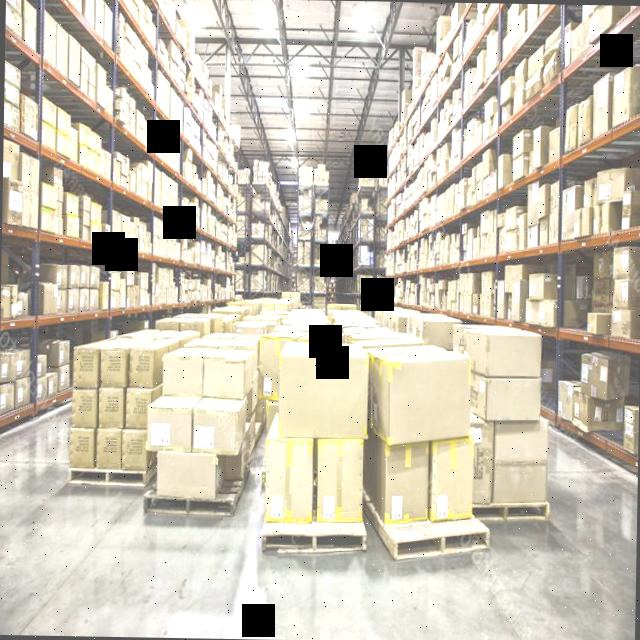box: (278, 356, 370, 440), (386, 354, 468, 444), (492, 421, 547, 506), (316, 442, 363, 525), (551, 380, 622, 433), (430, 441, 473, 519), (385, 444, 427, 520), (192, 399, 246, 452), (155, 456, 224, 495), (483, 331, 542, 375), (482, 378, 540, 422), (202, 350, 252, 396), (161, 349, 203, 395), (581, 358, 630, 396), (146, 410, 190, 449), (612, 66, 640, 123), (121, 431, 147, 473), (592, 72, 608, 137), (100, 348, 125, 389), (128, 348, 153, 386), (562, 184, 579, 239), (72, 349, 96, 387), (124, 390, 149, 425), (596, 171, 624, 201), (68, 432, 93, 465), (71, 391, 94, 426), (96, 430, 119, 465), (98, 390, 120, 426), (6, 183, 23, 224), (21, 159, 40, 193), (21, 100, 38, 136), (528, 273, 550, 300), (622, 408, 636, 449), (610, 309, 630, 337), (7, 182, 21, 222), (578, 96, 590, 142), (613, 247, 631, 277), (512, 129, 530, 157), (613, 279, 629, 308), (0, 352, 16, 381), (566, 104, 576, 150), (511, 278, 521, 321), (586, 314, 608, 333), (16, 378, 30, 407), (16, 349, 31, 373), (58, 340, 72, 365), (56, 112, 73, 132), (75, 127, 91, 147), (532, 126, 540, 165), (42, 99, 55, 123), (496, 280, 504, 318), (0, 385, 11, 412), (58, 366, 70, 390), (65, 196, 79, 215), (68, 267, 79, 288), (56, 265, 66, 287), (78, 290, 89, 310), (78, 267, 89, 286), (89, 289, 99, 309), (36, 355, 45, 375), (89, 267, 99, 284)
